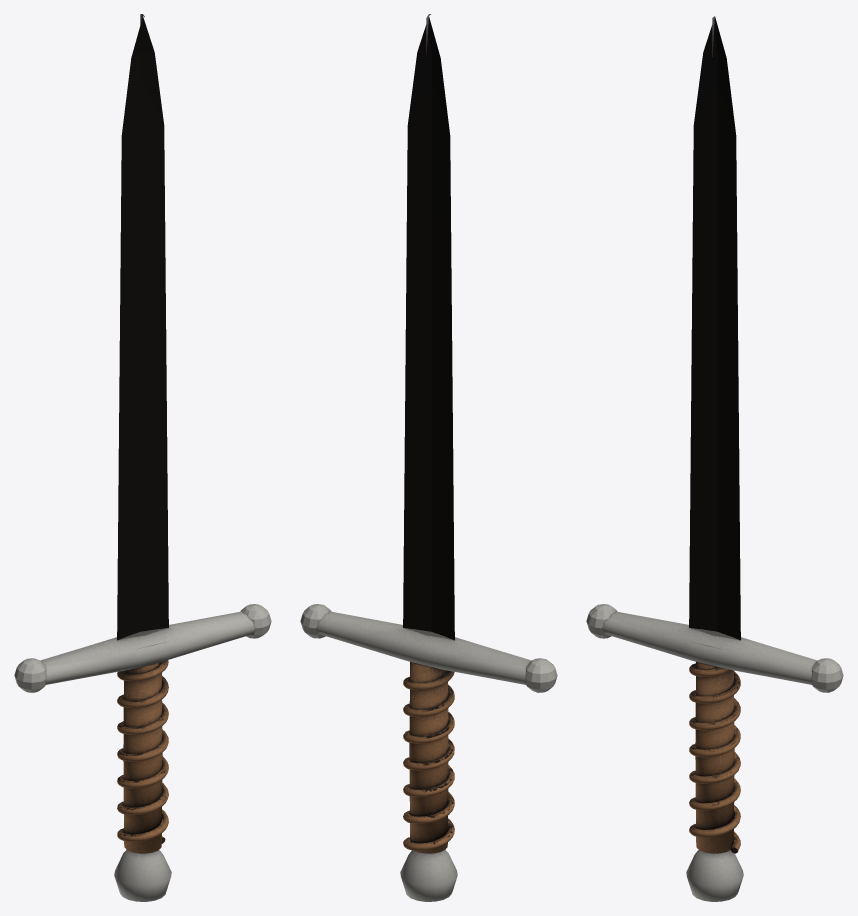
File: arma_espada_curta_comum.glb
3 renders of one model, left to right at view 1: azimuth 30°, elevation 25°; view 2: azimuth 150°, elevation 25°; view 3: azimuth 330°, elevation 25°, orthographic.
Parts seen in each view (by area): view 1: arma_espada_curta_comum; view 2: arma_espada_curta_comum; view 3: arma_espada_curta_comum.
Part boxes in pixels (x1,y1,x2,y2): arma_espada_curta_comum: (14,14,271,901); arma_espada_curta_comum: (300,14,557,901); arma_espada_curta_comum: (586,16,843,901).
Bounding box in the file's own units: 0.2612 × 0.8732 × 0.052.
1 material, 1 textured.
